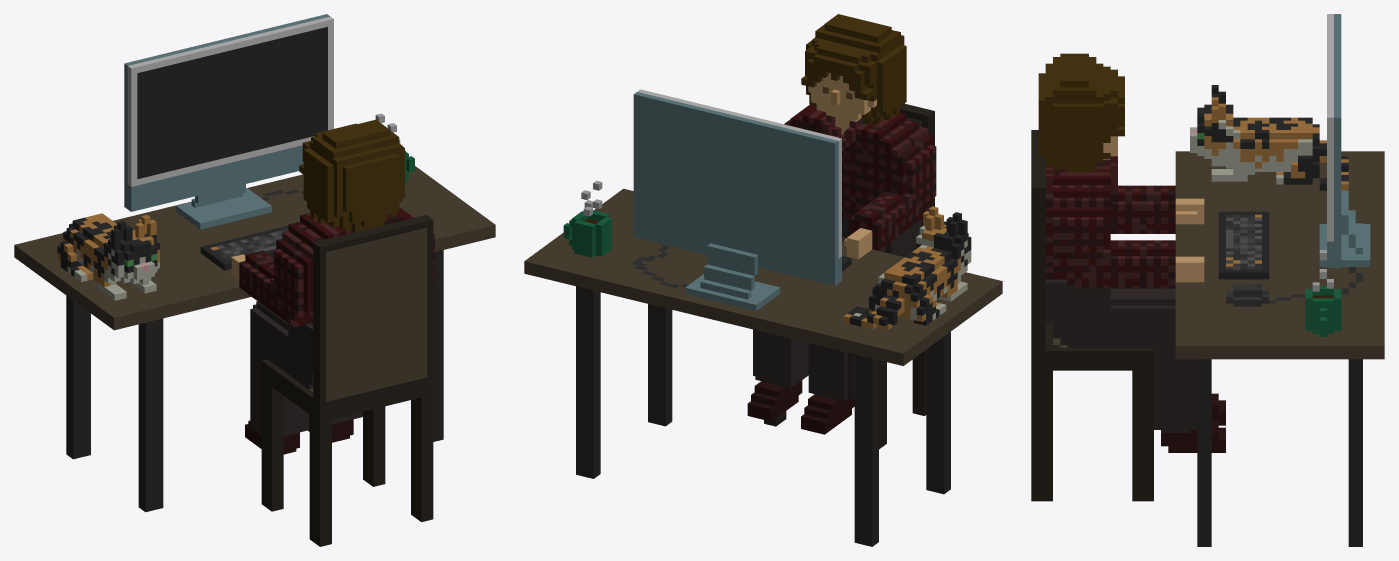
The model's file is voxel.glb.
3 views of the same model, side by side, from view 1: azimuth 30°, elevation 25°; view 2: azimuth 150°, elevation 25°; view 3: azimuth 270°, elevation 25° (orthographic). The views are drawn at different scales.
Parts seen in each view (by area): view 1: Untitled; view 2: Untitled; view 3: Untitled.
Boxes of the visible parts, x1,y1,x2,y2 form: Untitled: (14,14,495,546); Untitled: (524,14,1002,546); Untitled: (1031,14,1384,546).
Size of what is drawn, in the model's own units: 6.4 by 6.2 by 4.9.
1 material, 1 textured.
